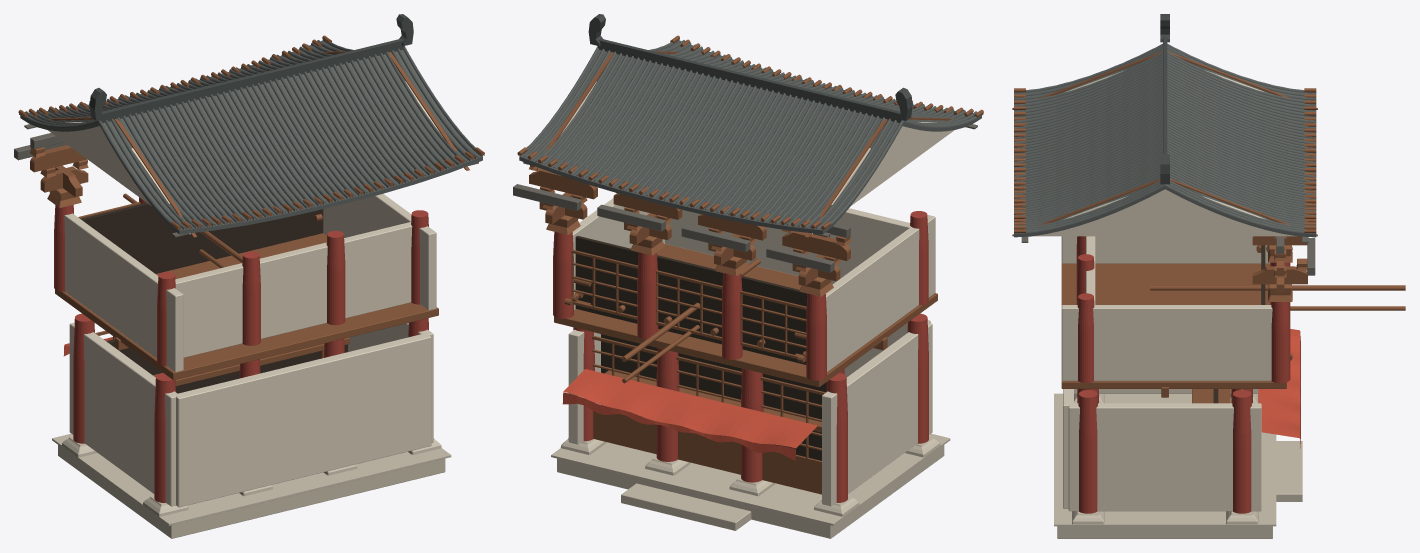
File: tavern-shijing.glb
3 views of the same model, side by side, from view 1: azimuth 30°, elevation 25°; view 2: azimuth 150°, elevation 25°; view 3: azimuth 270°, elevation 25° (orthographic). The views are drawn at different scales.
Visible parts, largest first — view 1: tavern_shijing; view 2: tavern_shijing; view 3: tavern_shijing.
Boxes of the visible parts, x1=… form: tavern_shijing: x1=14, y1=14, x2=484, y2=538; tavern_shijing: x1=513, y1=14, x2=983, y2=538; tavern_shijing: x1=1012, y1=14, x2=1405, y2=538.
Bounding box in the file's own units: 6.65 × 8.2 × 7.48.
